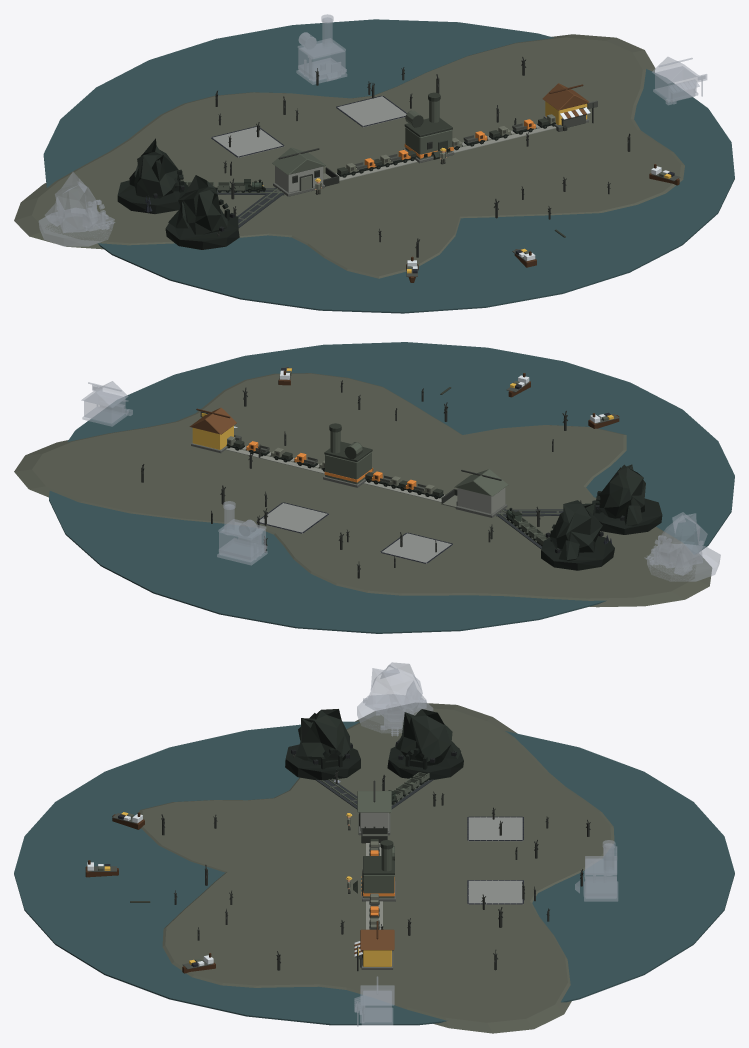
File: Island_Coal.fbx
The picture shows the model from 3 angles, top to bottom: view 1: azimuth 30°, elevation 25°; view 2: azimuth 150°, elevation 25°; view 3: azimuth 270°, elevation 25°; orthographic projection. The views are drawn at different scales.
Parts seen in each view (by area): view 1: isle_Coal, lagoon_Coal, mine_Coal.001, ghost_mine, mine_Coal, ghost_refinery, refinery, storage, ghost_market, market, pad_expand.001, pad_expand; view 2: isle_Coal, lagoon_Coal, mine_Coal, ghost_mine, mine_Coal.001, storage, ghost_refinery, refinery, ghost_market, market, pad_expand, pad_expand.001; view 3: isle_Coal, lagoon_Coal, mine_Coal.001, mine_Coal, ghost_mine, ghost_refinery, refinery, storage, market, ghost_market, pad_expand, pad_expand.001.
Boxes of the visible parts, x1,y1,x2,y2 form: isle_Coal: (14, 34, 684, 278); lagoon_Coal: (43, 19, 734, 313); mine_Coal.001: (165, 175, 239, 249); ghost_mine: (38, 172, 115, 246); mine_Coal: (117, 138, 188, 213); ghost_refinery: (296, 14, 347, 84); refinery: (403, 92, 454, 163); storage: (272, 147, 339, 196); ghost_market: (652, 57, 707, 105); market: (542, 83, 597, 131); pad_expand.001: (336, 95, 406, 127); pad_expand: (211, 126, 284, 157); isle_Coal: (14, 373, 712, 607); lagoon_Coal: (49, 342, 734, 633); mine_Coal: (541, 500, 614, 570); ghost_mine: (644, 512, 720, 581); mine_Coal.001: (592, 464, 662, 534); storage: (441, 469, 507, 517); ghost_refinery: (217, 501, 267, 565); refinery: (323, 423, 373, 487); ghost_market: (81, 381, 132, 426); market: (189, 407, 241, 453); pad_expand: (380, 532, 452, 564); pad_expand.001: (256, 502, 328, 533); isle_Coal: (139, 703, 614, 1033); lagoon_Coal: (14, 721, 734, 1025); mine_Coal.001: (285, 709, 360, 782); mine_Coal: (387, 709, 463, 779); ghost_mine: (357, 662, 433, 736); ghost_refinery: (575, 840, 618, 901); refinery: (353, 840, 395, 901); storage: (357, 780, 391, 843); market: (354, 921, 394, 971); ghost_market: (354, 976, 394, 1026); pad_expand: (467, 816, 523, 841); pad_expand.001: (467, 880, 523, 904).
Bounding box in the file's own units: 155 × 18.45 × 143.
